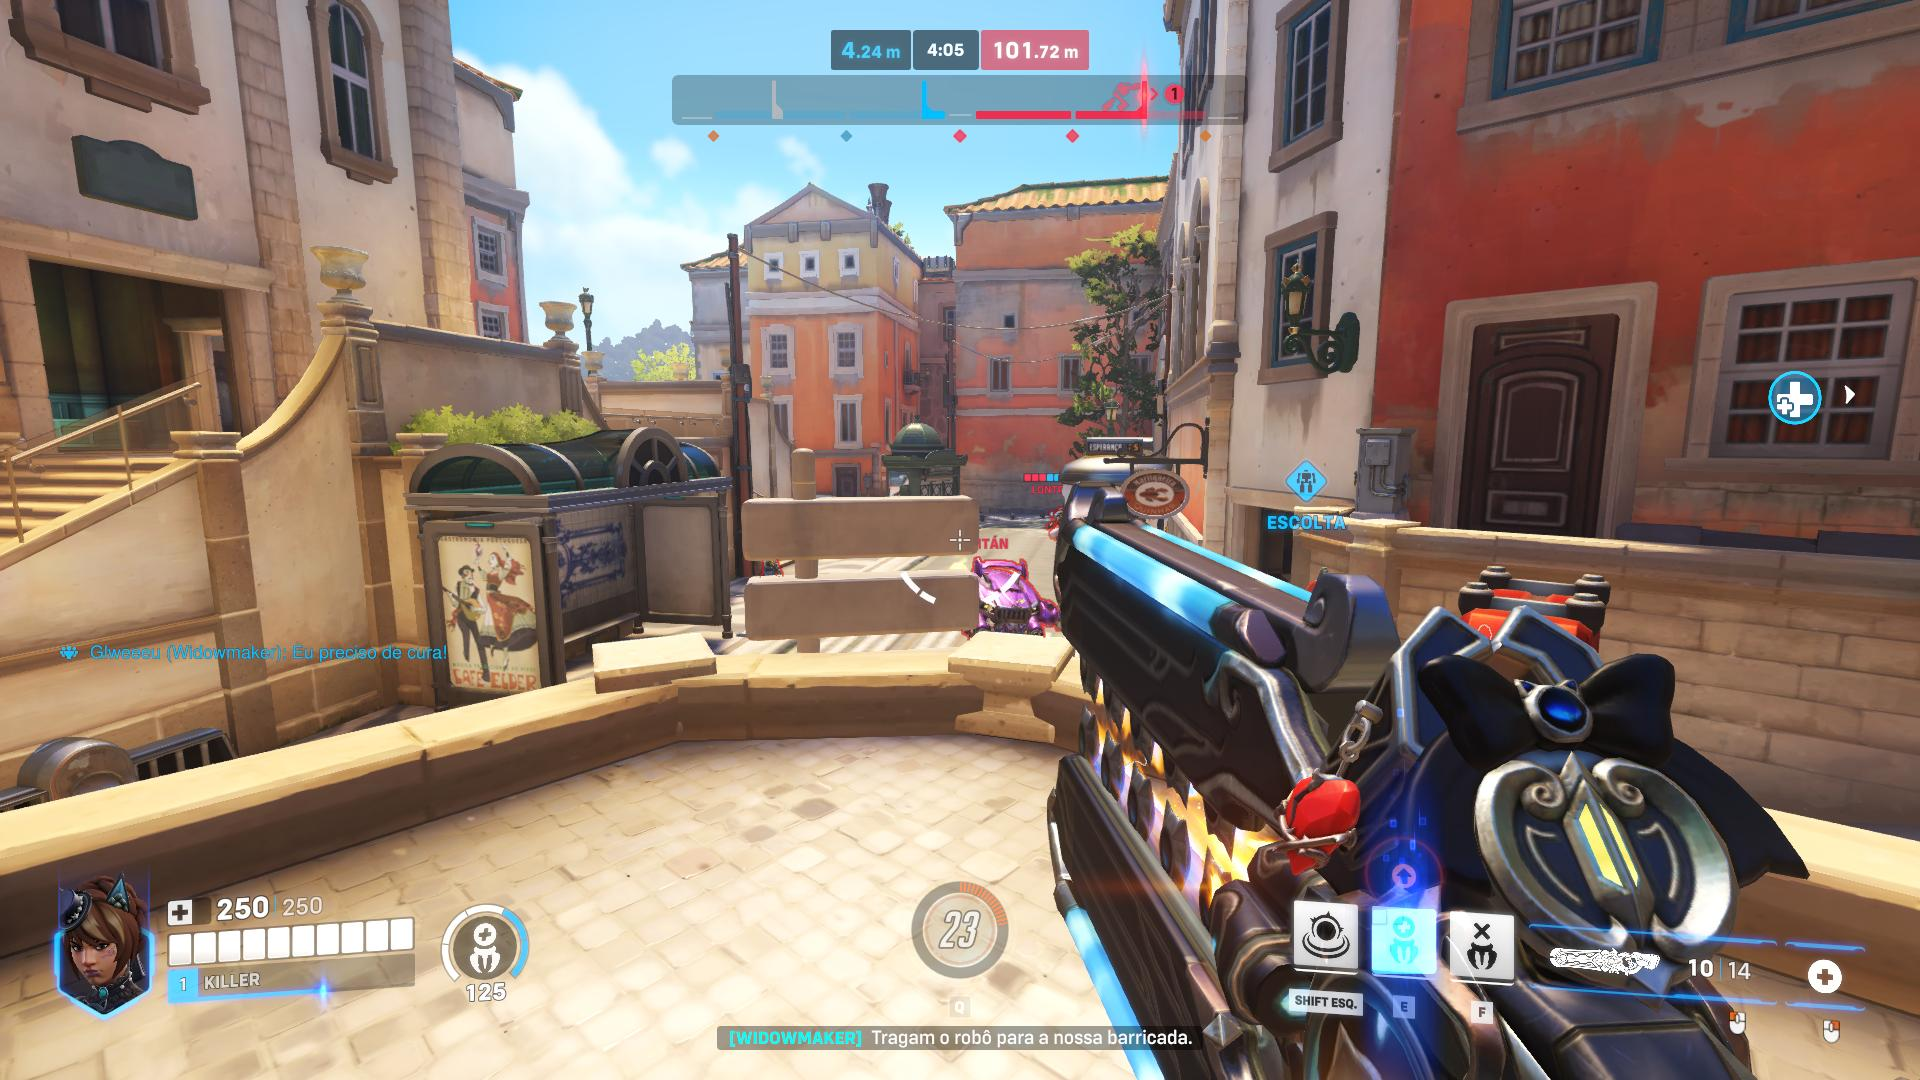enemy: (963, 558, 1056, 641), (1044, 506, 1065, 542)
